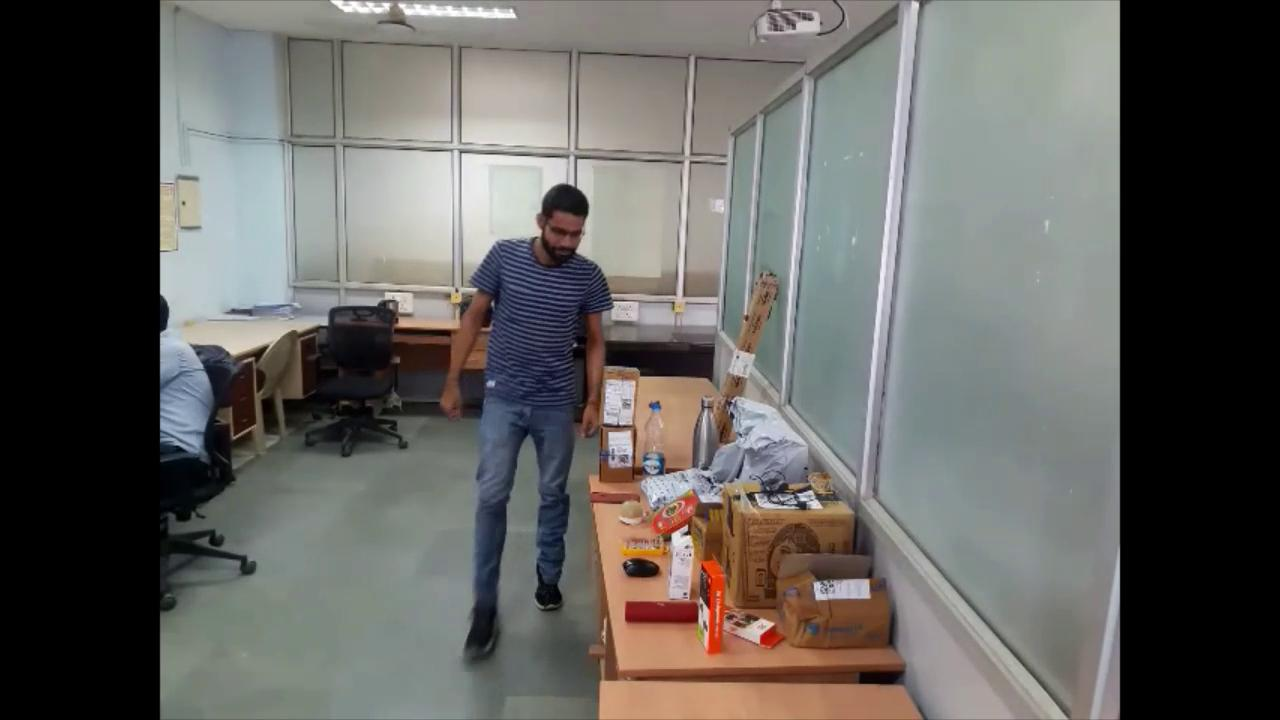Normal: (434, 169, 612, 673)
